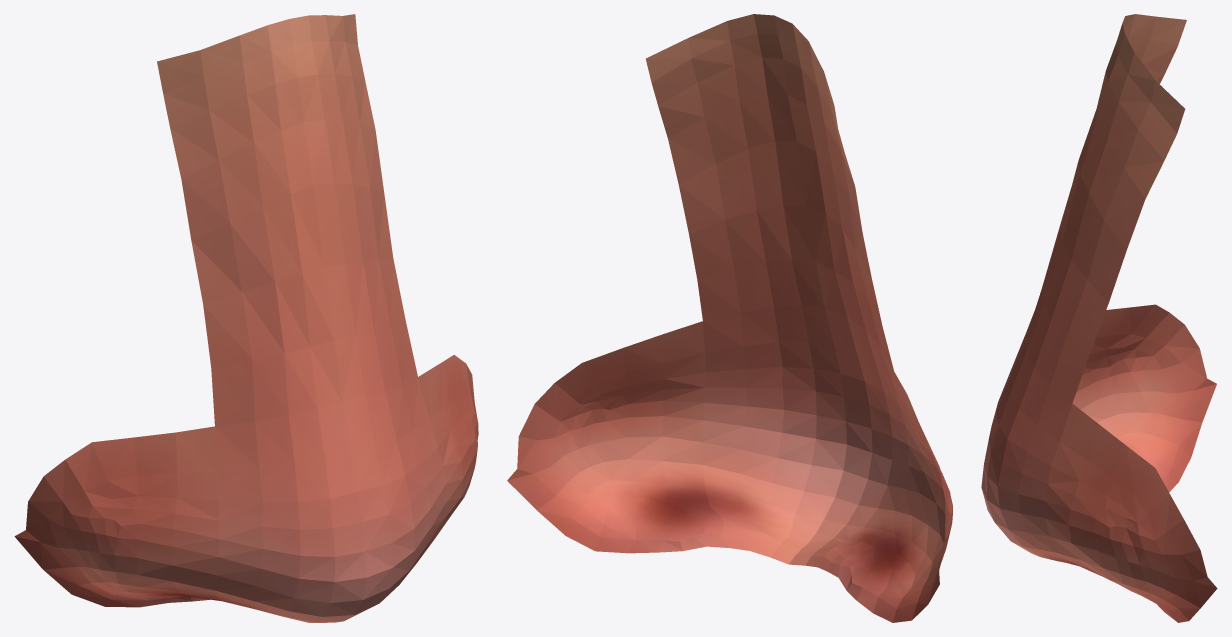
Rendered from euro-nose-flat.obj.
3 renders of one model, left to right at view 1: azimuth 30°, elevation 25°; view 2: azimuth 150°, elevation 25°; view 3: azimuth 270°, elevation 25°, orthographic. The views are drawn at different scales.
Visible parts, largest first — view 1: euro-nose-flat.001; view 2: euro-nose-flat.001; view 3: euro-nose-flat.001.
Boxes of the visible parts, <box> form: euro-nose-flat.001: <box>14,14,478,622</box>; euro-nose-flat.001: <box>507,14,952,622</box>; euro-nose-flat.001: <box>981,14,1217,622</box>.
Size of the model in its own units: 0.2819 by 0.3486 by 0.1387.
1 material, 1 textured.
